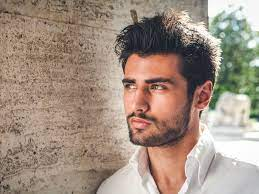b.y: (127, 113, 168, 147)
